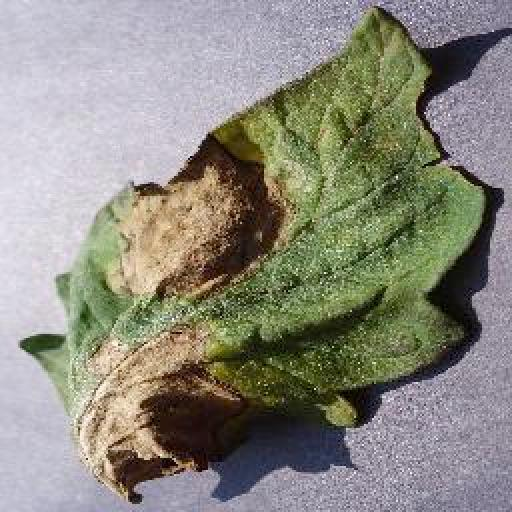disease_tomato: (20, 2, 486, 504)
